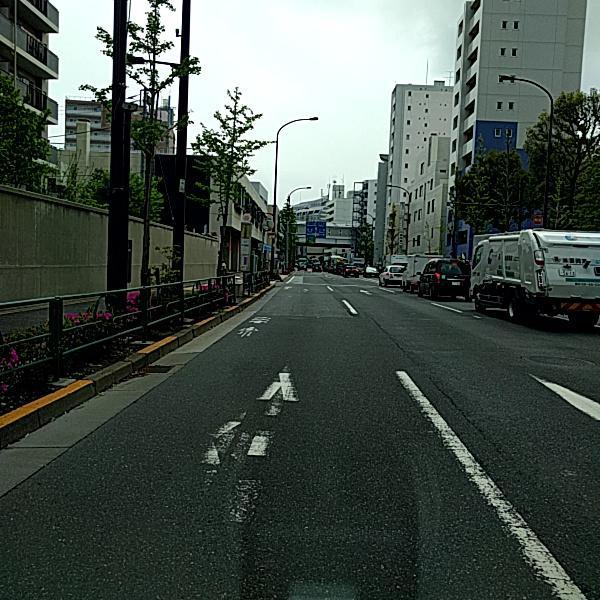D00: (427, 375, 508, 456), (366, 315, 412, 359)
D44: (192, 341, 298, 538)
